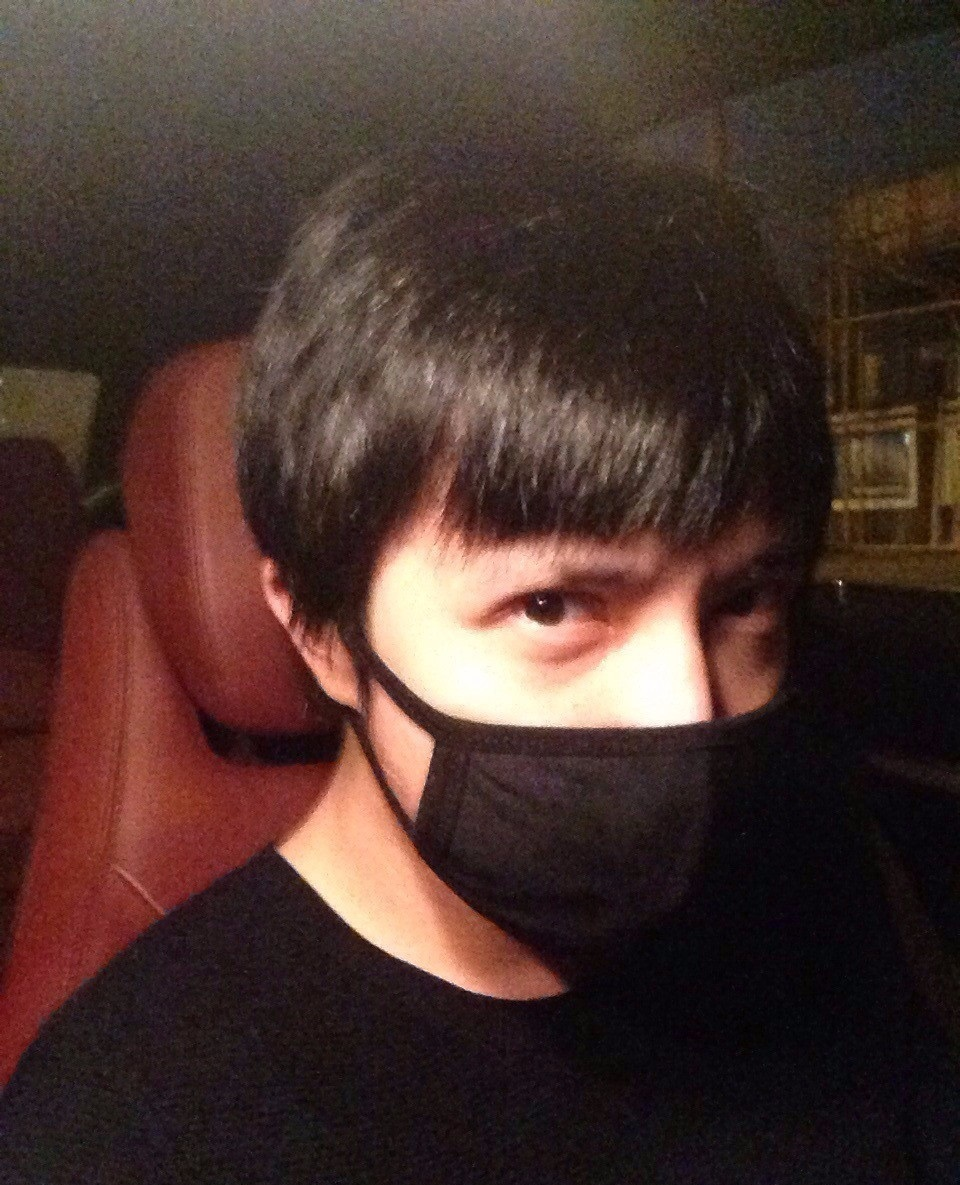face_mask: (377, 382, 793, 954)
